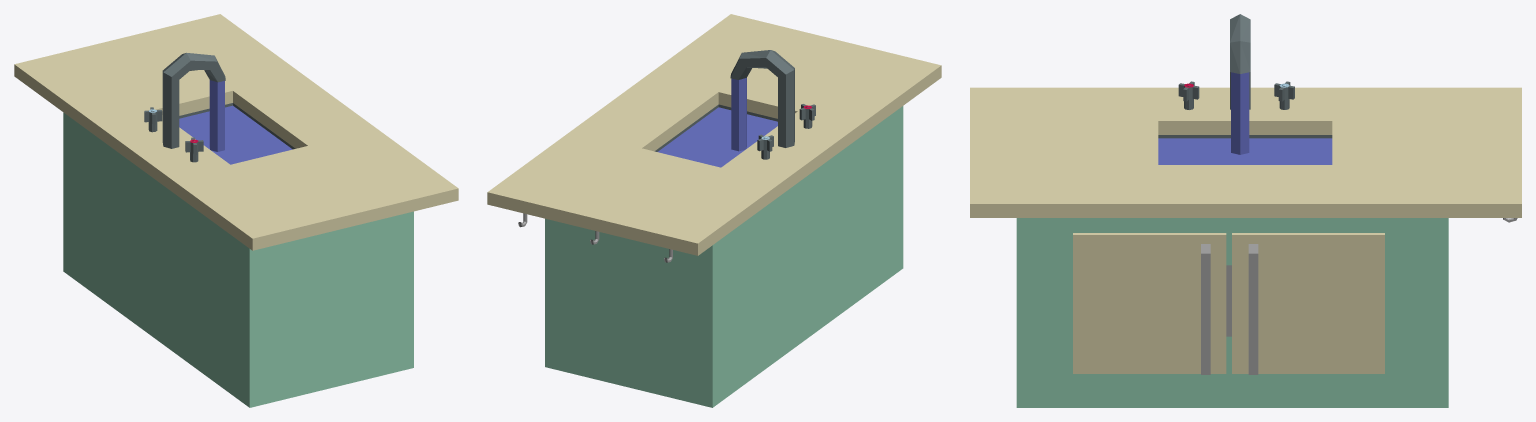
File: Sink_Filled_Water.fbx
3 renders of one model, left to right at view 1: azimuth 30°, elevation 25°; view 2: azimuth 150°, elevation 25°; view 3: azimuth 270°, elevation 25°, orthographic. The views are drawn at different scales.
Visible parts, largest first — view 1: Sink_Or_counter_pCube30; view 2: Sink_Or_counter_pCube30; view 3: Sink_Or_counter_pCube30.
Part boxes in pixels (x1,y1,x2,y2): Sink_Or_counter_pCube30: (14,14,458,407); Sink_Or_counter_pCube30: (487,14,941,407); Sink_Or_counter_pCube30: (970,14,1521,407).
Size of the model in its own units: 108 by 138 by 216.
